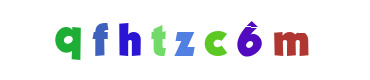6: (175, 0, 255, 80)
C: (150, 0, 230, 80)
F: (105, 0, 185, 80)
H: (109, 0, 189, 80)
M: (251, 0, 331, 80)
Q: (29, 0, 109, 80)
T: (145, 0, 225, 80)
Z: (150, 0, 230, 80)
